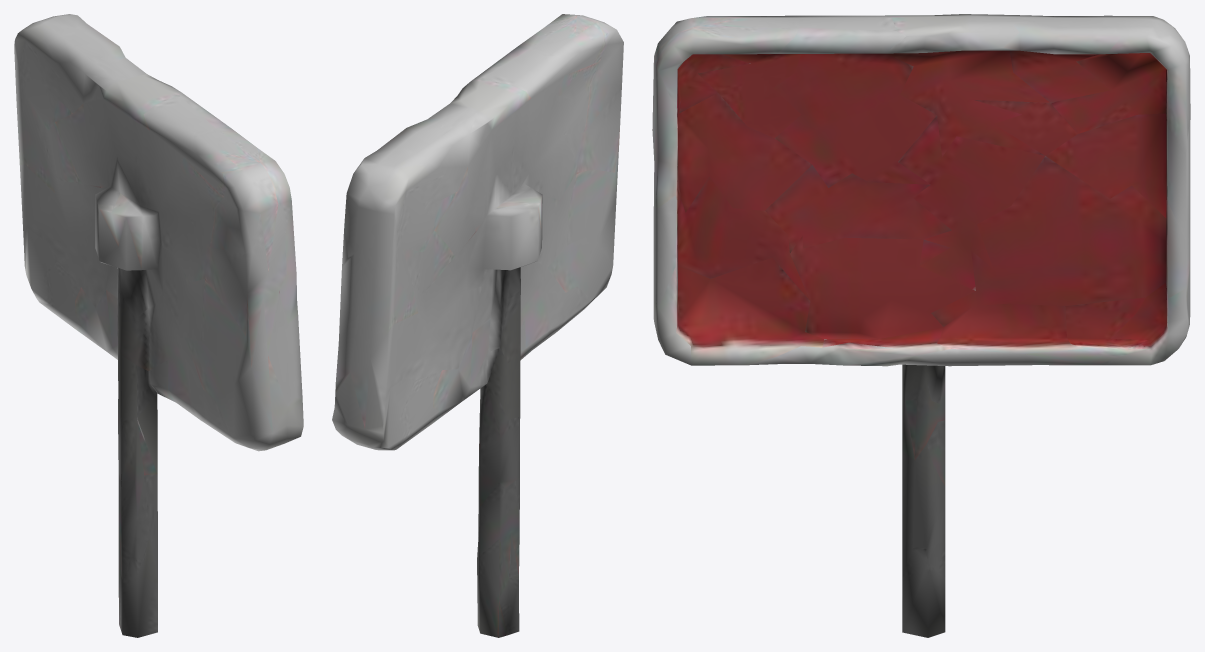
File: sign.glb
The picture shows the model from 3 angles, left to right: view 1: azimuth 30°, elevation 25°; view 2: azimuth 150°, elevation 25°; view 3: azimuth 270°, elevation 25°; orthographic projection. The views are drawn at different scales.
Visible parts, largest first — view 1: tripo_node_f41e86c7-7676-4b50-81ae-96d552006a8f; view 2: tripo_node_f41e86c7-7676-4b50-81ae-96d552006a8f; view 3: tripo_node_f41e86c7-7676-4b50-81ae-96d552006a8f.
Boxes of the visible parts, <box> form: tripo_node_f41e86c7-7676-4b50-81ae-96d552006a8f: <box>14,14,303,637</box>; tripo_node_f41e86c7-7676-4b50-81ae-96d552006a8f: <box>332,14,623,637</box>; tripo_node_f41e86c7-7676-4b50-81ae-96d552006a8f: <box>652,14,1190,637</box>.
Bounding box in the file's own units: 0.1785 × 1 × 0.7942.
Materials: 1 (1 with a texture image).
